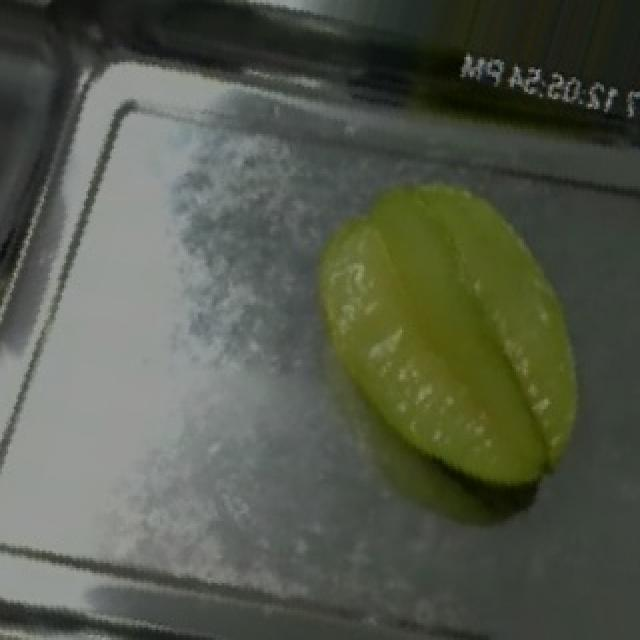fruit: (270, 136, 640, 528)
